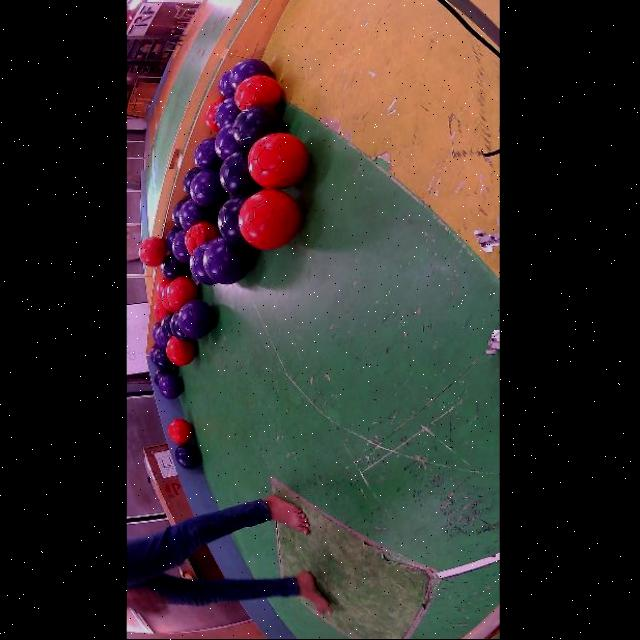B: (231, 105, 281, 150), (216, 194, 248, 247), (218, 151, 255, 195), (158, 254, 188, 281), (169, 311, 192, 342), (174, 444, 199, 469), (152, 348, 174, 372), (170, 199, 187, 229), (181, 168, 199, 196), (164, 226, 179, 254), (158, 313, 171, 341), (152, 370, 171, 386)
P: (201, 237, 251, 285), (188, 169, 225, 207), (177, 300, 213, 339), (227, 59, 269, 89), (177, 199, 216, 230), (187, 242, 214, 286), (213, 124, 242, 161), (192, 138, 221, 170), (213, 98, 239, 129), (156, 374, 182, 400), (170, 230, 188, 264), (216, 70, 232, 99), (153, 328, 166, 350), (149, 322, 158, 342), (147, 344, 156, 364)
R: (236, 190, 299, 250), (245, 133, 306, 190), (232, 76, 280, 111), (183, 222, 218, 255), (165, 277, 195, 311), (136, 237, 165, 268), (164, 337, 194, 366), (203, 99, 222, 131), (166, 420, 191, 444), (157, 285, 172, 312), (152, 300, 168, 322), (155, 278, 169, 300)
